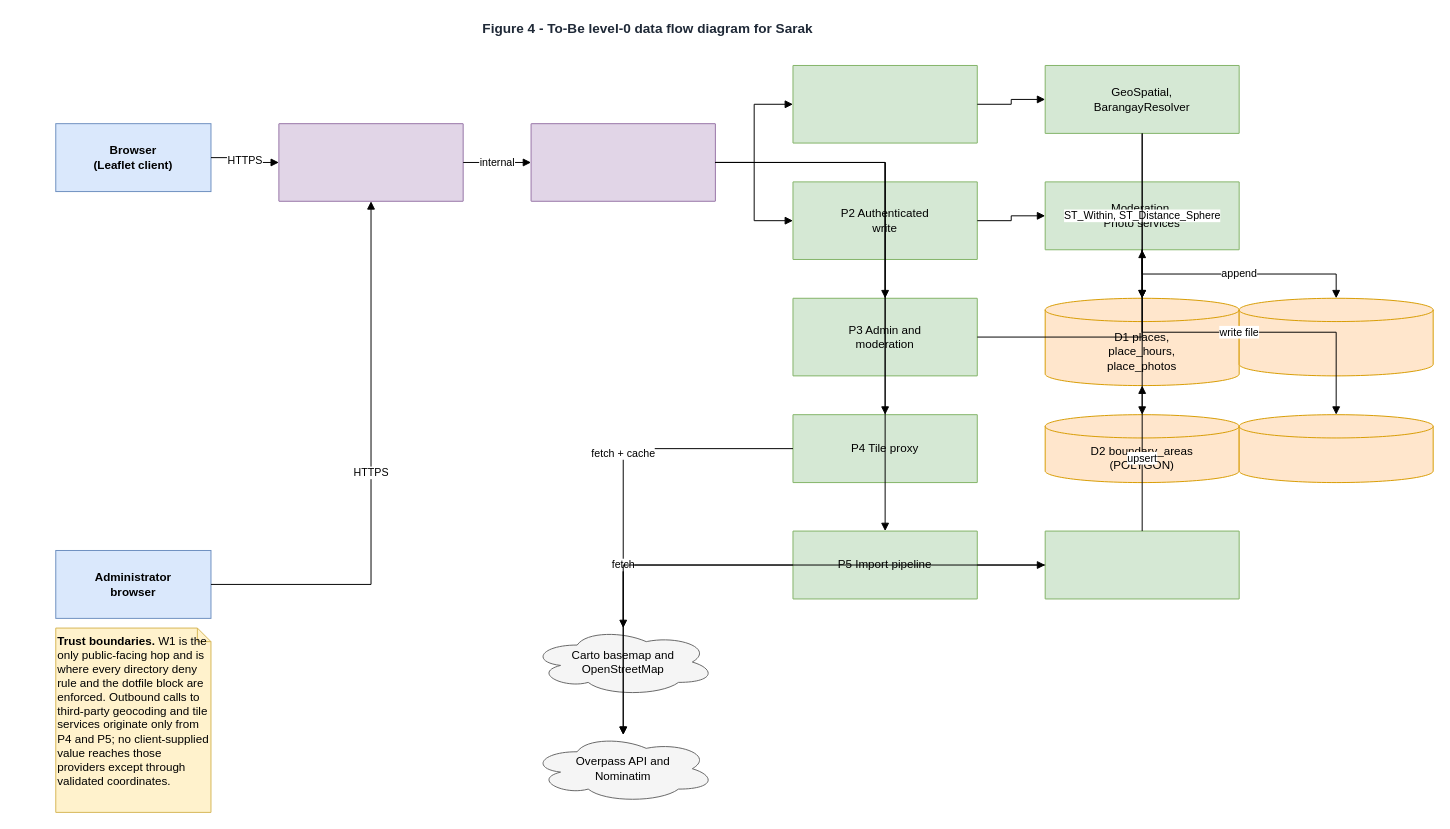
Image size: 1450x829. Some labels were removed from this diagram. Each missing label, with the box of its shape:
D3 audit_log, mod_queue: (1238, 297, 1433, 376)
D4 public disk photo tree: (1238, 414, 1433, 483)
Import, Dedupe, AddressEnricher: (1044, 530, 1239, 599)
P1 Public read (ETag, cached): (792, 65, 977, 143)
W1 Apache rewrite + deny rules: (278, 123, 463, 201)
W2 Laravel front controller: (530, 123, 715, 201)
